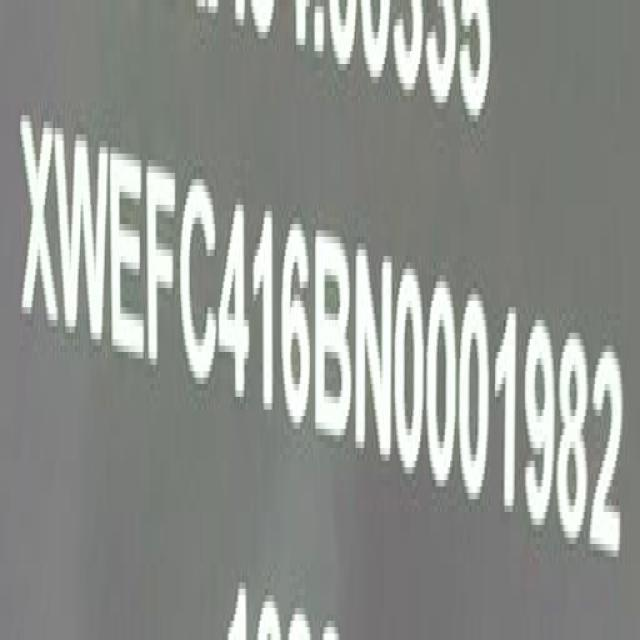0: (394, 256, 426, 485), (458, 288, 488, 508), (428, 271, 457, 497)
1: (254, 195, 278, 424), (497, 299, 520, 523)
2: (593, 346, 625, 570)
4: (217, 190, 250, 412)
6: (282, 207, 314, 433)
8: (557, 328, 590, 548)
9: (523, 316, 555, 533)
B: (313, 224, 352, 455)
C: (182, 166, 221, 396)
E: (110, 135, 146, 373)
F: (144, 145, 179, 381)
N: (356, 237, 396, 475)
W: (55, 118, 110, 358)
X: (18, 102, 58, 343)
